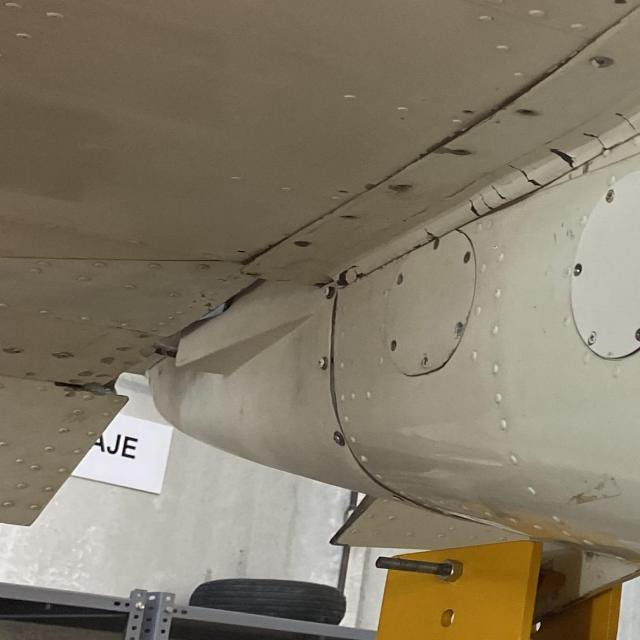Missing-head: (447, 147, 476, 156), (570, 262, 586, 278), (392, 183, 415, 193), (513, 107, 538, 116), (339, 215, 356, 220)
Paint-off: (430, 146, 450, 154), (362, 183, 378, 191), (2, 348, 17, 354)
